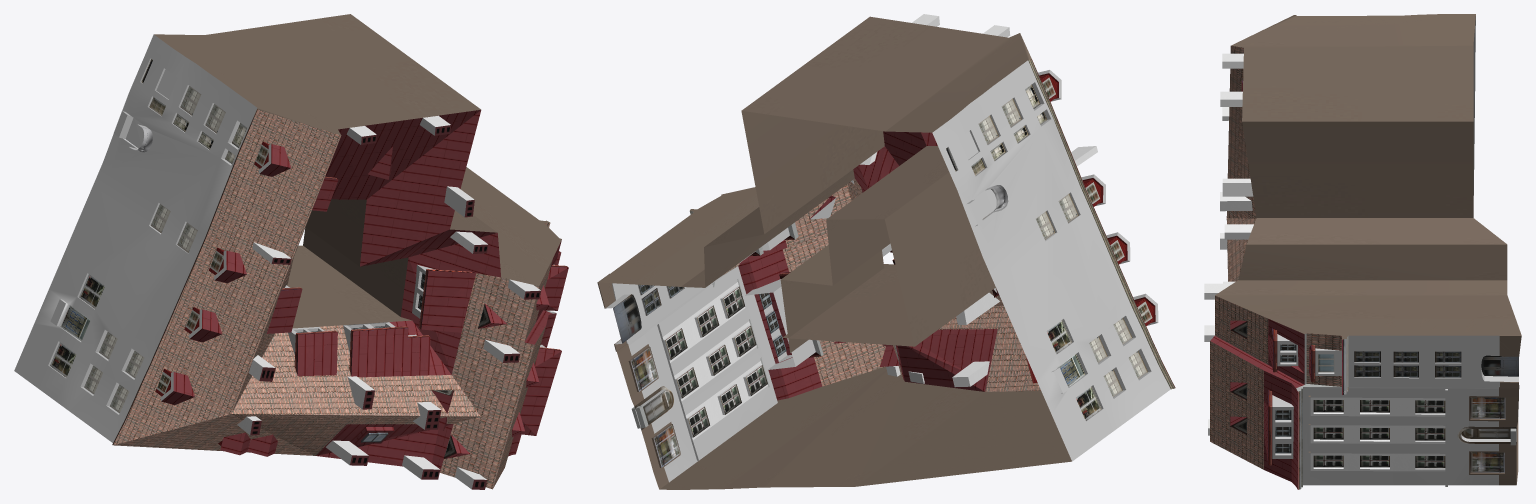
The model's file is Rataskaevu_6.obj.
3 renders of one model, left to right at view 1: azimuth 30°, elevation 25°; view 2: azimuth 150°, elevation 25°; view 3: azimuth 270°, elevation 25°, orthographic. The views are drawn at different scales.
Parts seen in each view (by area): view 1: Rataskaevu_6; view 2: Rataskaevu_6; view 3: Rataskaevu_6.
Boxes of the visible parts, left/top/right/bottom form: Rataskaevu_6: left=14, top=14, right=568, bottom=489; Rataskaevu_6: left=597, top=14, right=1175, bottom=489; Rataskaevu_6: left=1204, top=14, right=1521, bottom=489.
Size of the model in its own units: 34.6 by 29.15 by 23.1.
